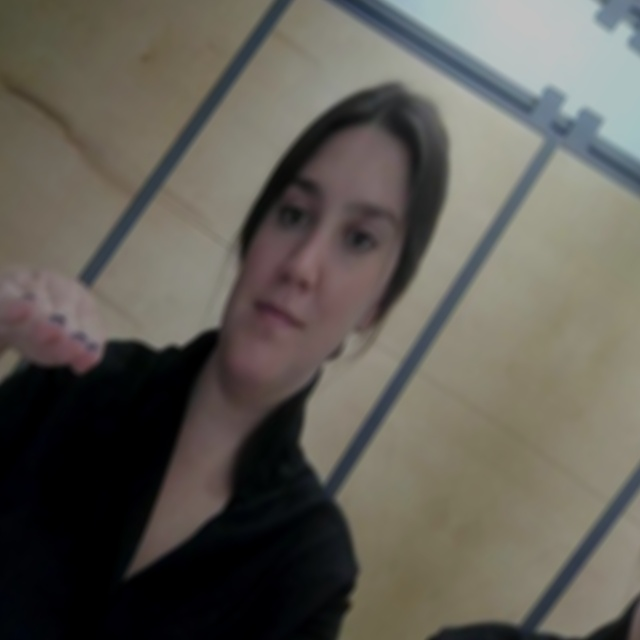Paper: (0, 221, 138, 406)
